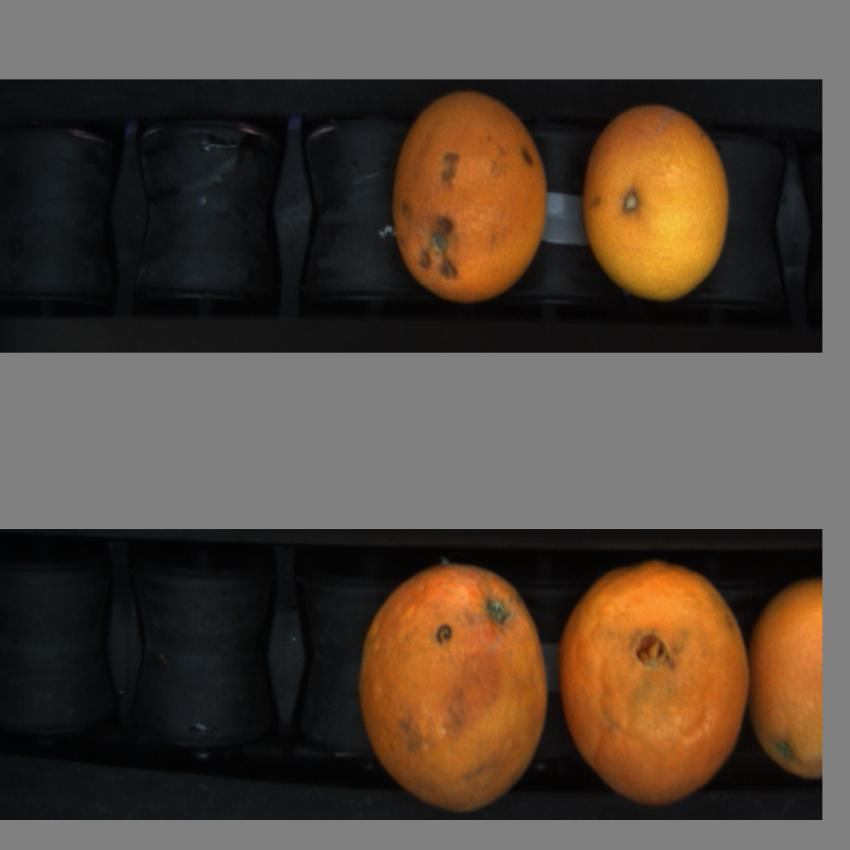Buen estado: (559, 558, 750, 804), (394, 90, 552, 308), (579, 100, 736, 306), (748, 577, 821, 787)
Mal estado: (356, 562, 553, 805)
